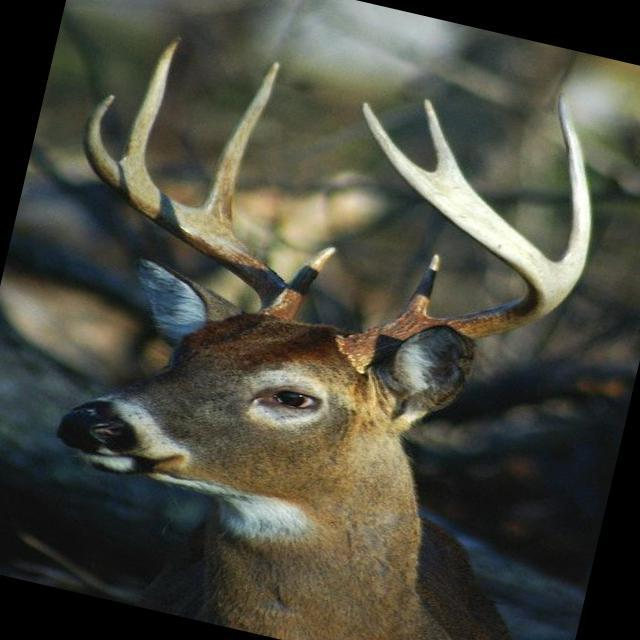E1: (422, 98, 470, 187)
L-F: (338, 101, 563, 372)
L-G1: (405, 253, 441, 313)
L-G2: (555, 93, 592, 291)
R-F: (81, 93, 298, 320)
R-G1: (288, 246, 337, 299)
R-G2: (190, 60, 279, 230)
R-G3: (117, 37, 181, 176)
